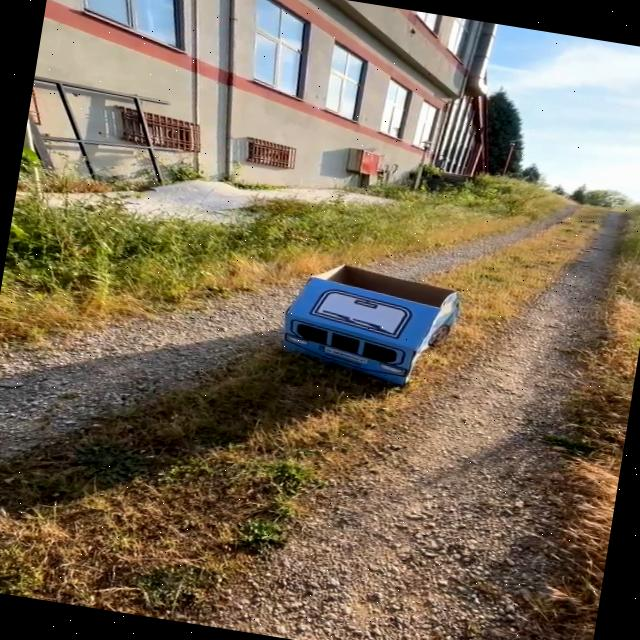blue_car: (240, 227, 480, 422)
